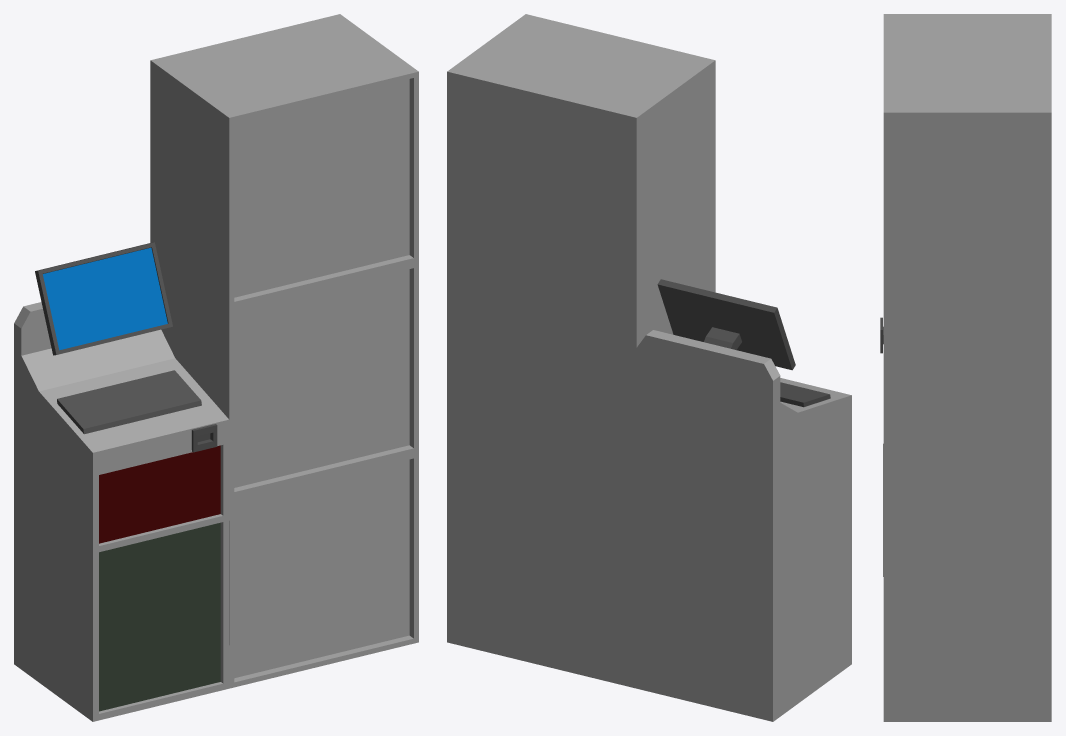
Rendered from TerminalHealth.fbx.
The picture shows the model from 3 angles, left to right: view 1: azimuth 30°, elevation 25°; view 2: azimuth 150°, elevation 25°; view 3: azimuth 270°, elevation 25°; orthographic projection. The views are drawn at different scales.
Visible parts, largest first — view 1: SM_TerminalHealth; view 2: SM_TerminalHealth; view 3: SM_TerminalHealth.
Boxes of the visible parts, box(x1,y1,x2,y2) form: SM_TerminalHealth: box(14, 14, 418, 721); SM_TerminalHealth: box(447, 14, 851, 721); SM_TerminalHealth: box(880, 14, 1051, 721).
Bounding box in the file's own units: 120 × 200 × 51.04.
